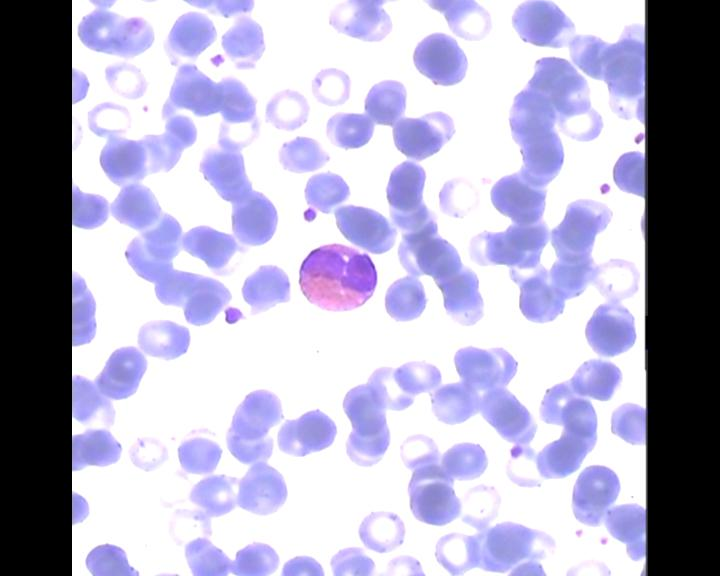eosi: (292, 240, 380, 314)
